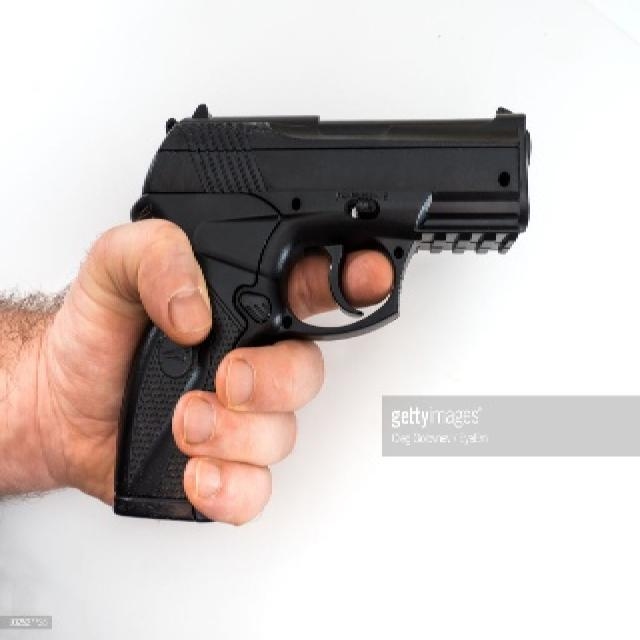handgun: (105, 101, 537, 527)
